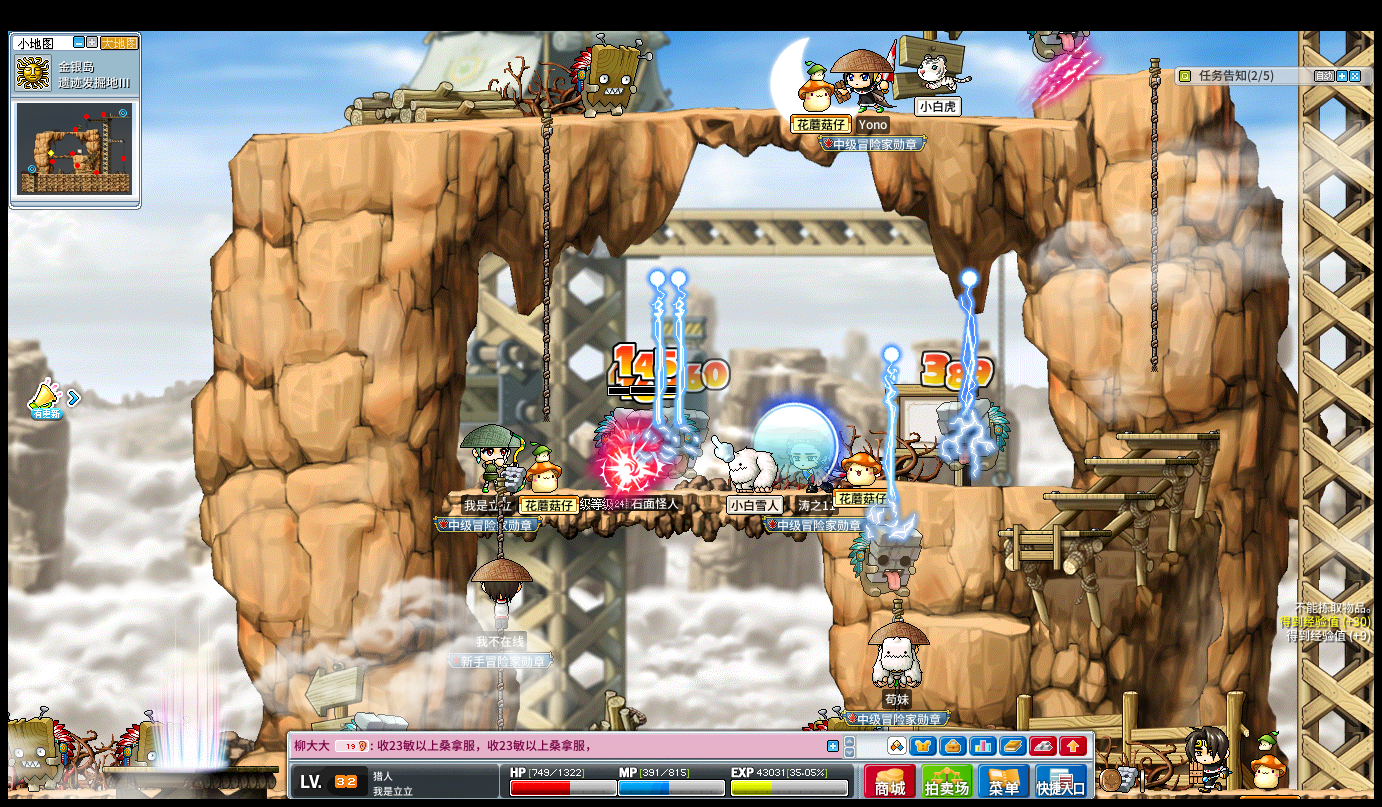floor: (244, 104, 1092, 139), (449, 487, 822, 499), (923, 613, 1029, 634), (889, 482, 1075, 493), (1114, 429, 1221, 441), (1078, 67, 1168, 80), (1077, 456, 1194, 464), (1041, 492, 1154, 500), (995, 528, 1108, 536)
monster: (594, 405, 701, 489), (569, 32, 647, 115), (939, 399, 1012, 485), (3, 710, 73, 792), (847, 526, 921, 599), (594, 405, 655, 485), (652, 406, 703, 485)
rope: (1146, 60, 1160, 377), (540, 106, 551, 425), (541, 107, 551, 353), (494, 484, 505, 560)
